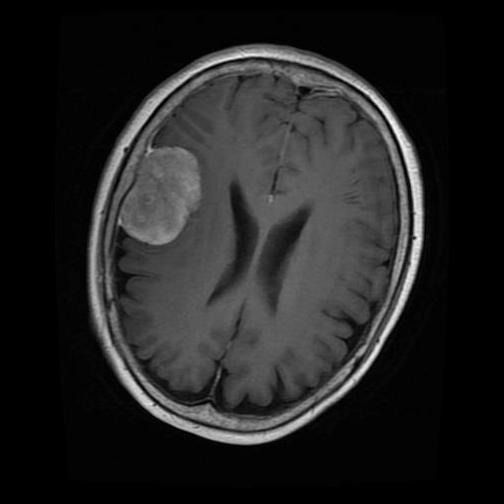Tumour-Meningioma: (105, 137, 229, 262)
